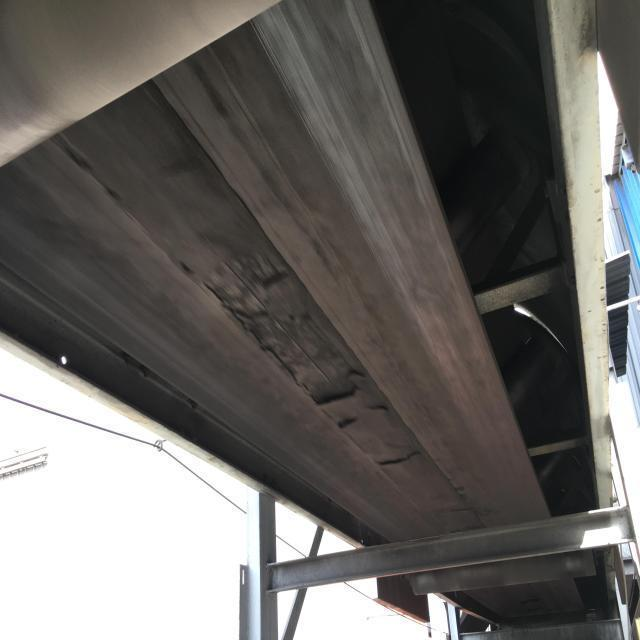Wear: (61, 78, 476, 528)
